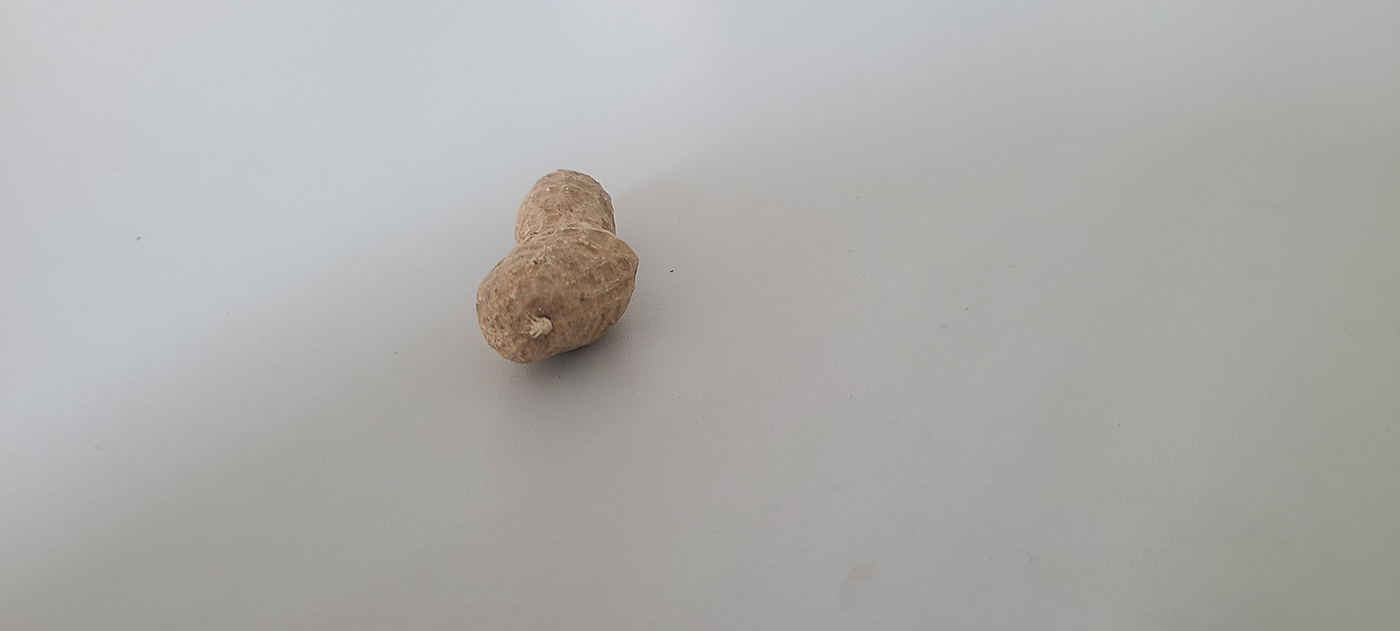h: (474, 167, 639, 359)
